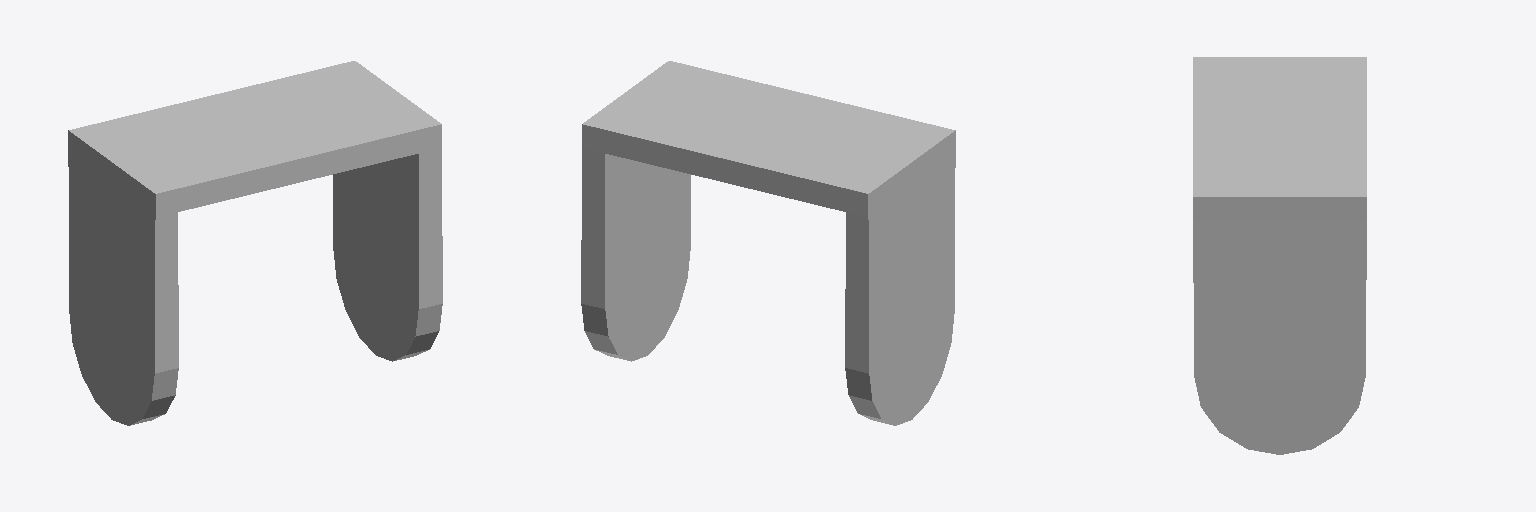
The model's file is leftWrist.obj.
The picture shows the model from 3 angles: view 1: azimuth 30°, elevation 25°; view 2: azimuth 150°, elevation 25°; view 3: azimuth 270°, elevation 25°; orthographic projection.
Size of the model in its own units: 3.82 by 3.27 by 2.